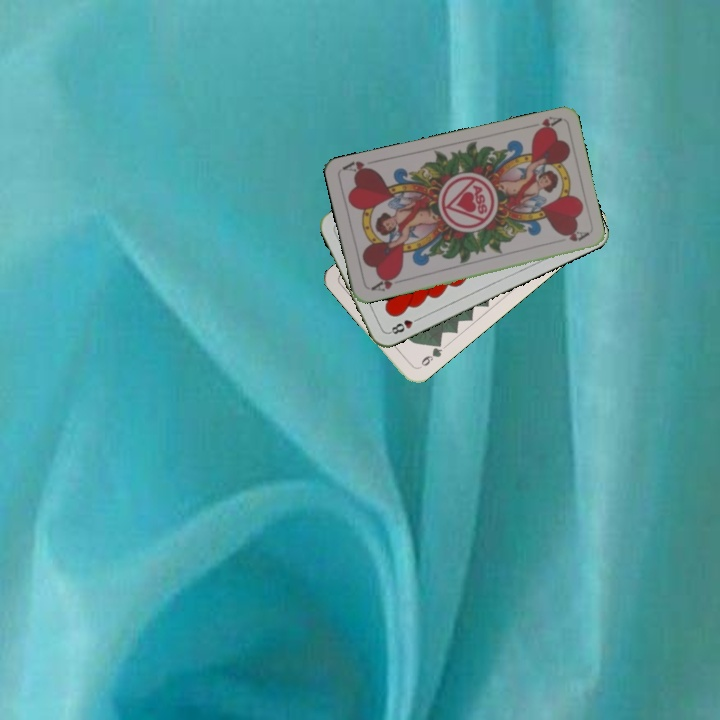G9: (414, 338, 445, 372)
H8: (385, 313, 423, 337)
HA: (367, 271, 406, 294), (531, 112, 563, 136)
